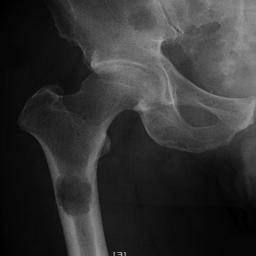cancer: (53, 171, 96, 220)
